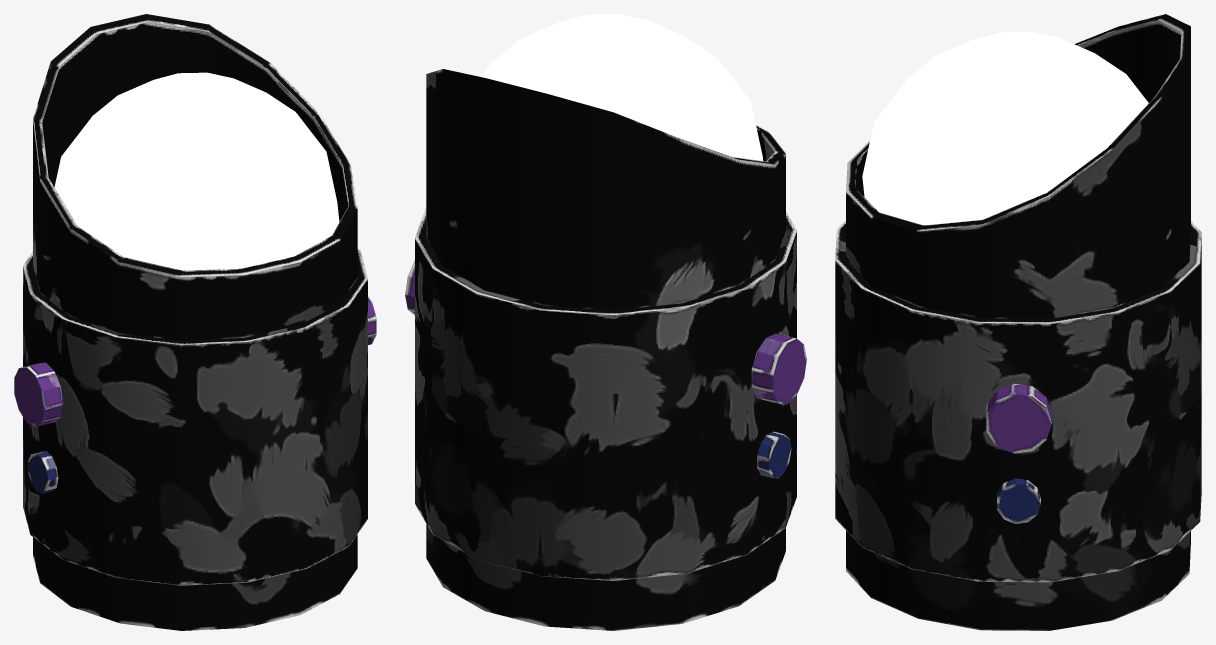
File: reflektor.fbx
The picture shows the model from 3 angles, left to right: view 1: azimuth 30°, elevation 25°; view 2: azimuth 150°, elevation 25°; view 3: azimuth 270°, elevation 25°; orthographic projection. The views are drawn at different scales.
Visible parts, largest first — view 1: Cylinder.006; view 2: Cylinder.006; view 3: Cylinder.006.
Boxes of the visible parts, x1,y1,x2,y2 form: Cylinder.006: (14, 14, 376, 630); Cylinder.006: (405, 14, 806, 630); Cylinder.006: (835, 14, 1201, 630).
Size of the model in its own units: 259 by 360 by 230.
